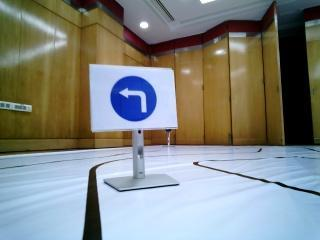left: (99, 68, 170, 130)
